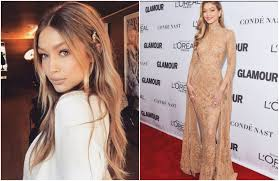middle_eastern_Female: (34, 8, 107, 94), (200, 2, 222, 29)
